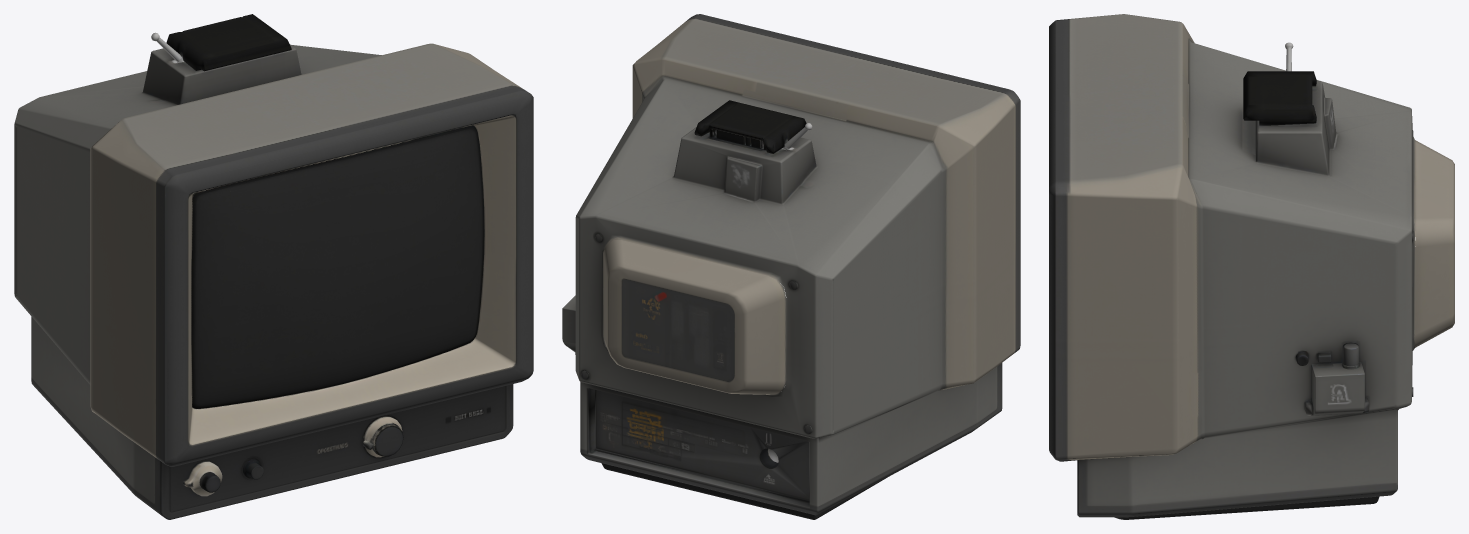
File: vintage tv 3d model (1).glb
The picture shows the model from 3 angles, left to right: view 1: azimuth 30°, elevation 25°; view 2: azimuth 150°, elevation 25°; view 3: azimuth 270°, elevation 25°; orthographic projection. The views are drawn at different scales.
Visible parts, largest first — view 1: tripo_8fc5f7b6_2c4f_4027_9741_a607e909829a; view 2: tripo_8fc5f7b6_2c4f_4027_9741_a607e909829a; view 3: tripo_8fc5f7b6_2c4f_4027_9741_a607e909829a.
Part boxes in pixels (x1,y1,x2,y2): tripo_8fc5f7b6_2c4f_4027_9741_a607e909829a: [14, 14, 533, 519]; tripo_8fc5f7b6_2c4f_4027_9741_a607e909829a: [562, 14, 1020, 519]; tripo_8fc5f7b6_2c4f_4027_9741_a607e909829a: [1049, 14, 1454, 519].
Size of the model in its own units: 0.9995 by 0.9956 by 0.9702.
1 material, 1 textured.
